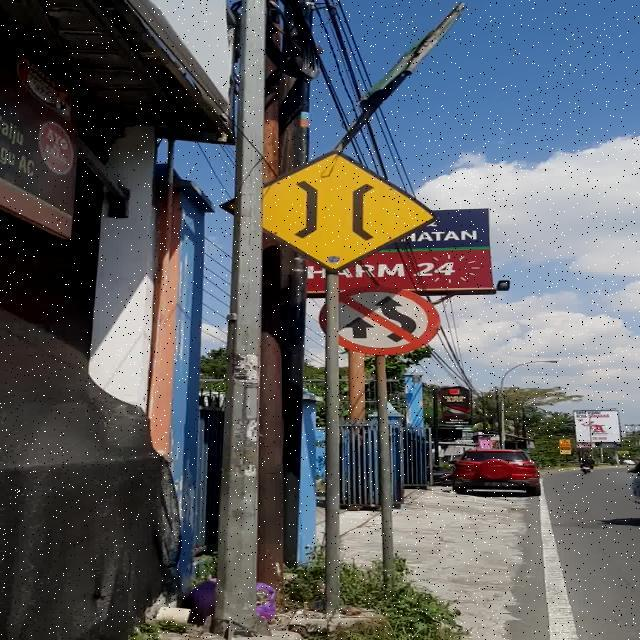Dilarang Mendahului: (340, 286, 440, 355)
